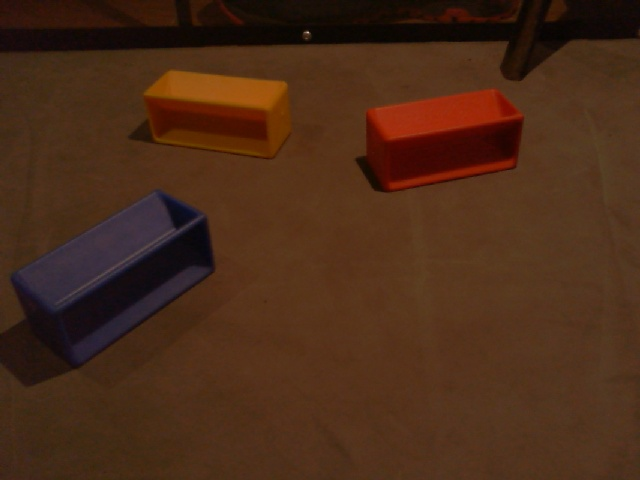BlueSample: (9, 188, 218, 374)
RedSample: (365, 89, 526, 193)
YellowSample: (142, 68, 294, 162)
